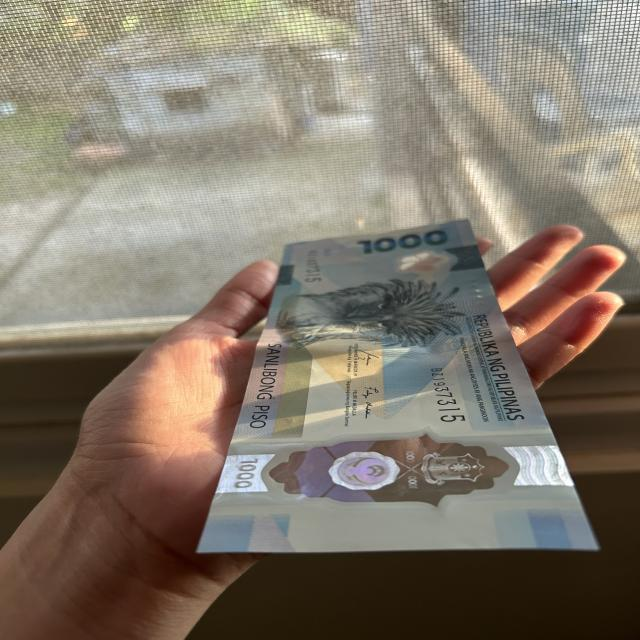clear_window: (264, 435, 538, 509)
eagle: (281, 284, 454, 350)
sampaguita: (403, 246, 452, 278)
